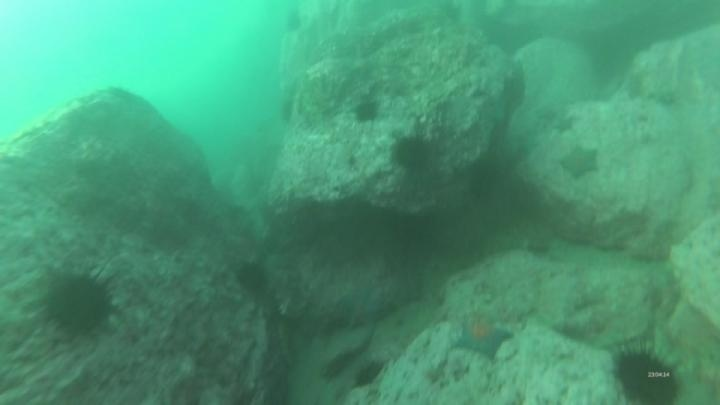echinus: (40, 267, 118, 339), (609, 342, 684, 405), (390, 132, 435, 174), (464, 155, 504, 201), (234, 259, 270, 295), (351, 357, 388, 391), (350, 96, 382, 126)
starfish: (451, 313, 515, 361), (333, 282, 388, 331), (557, 143, 602, 182)
